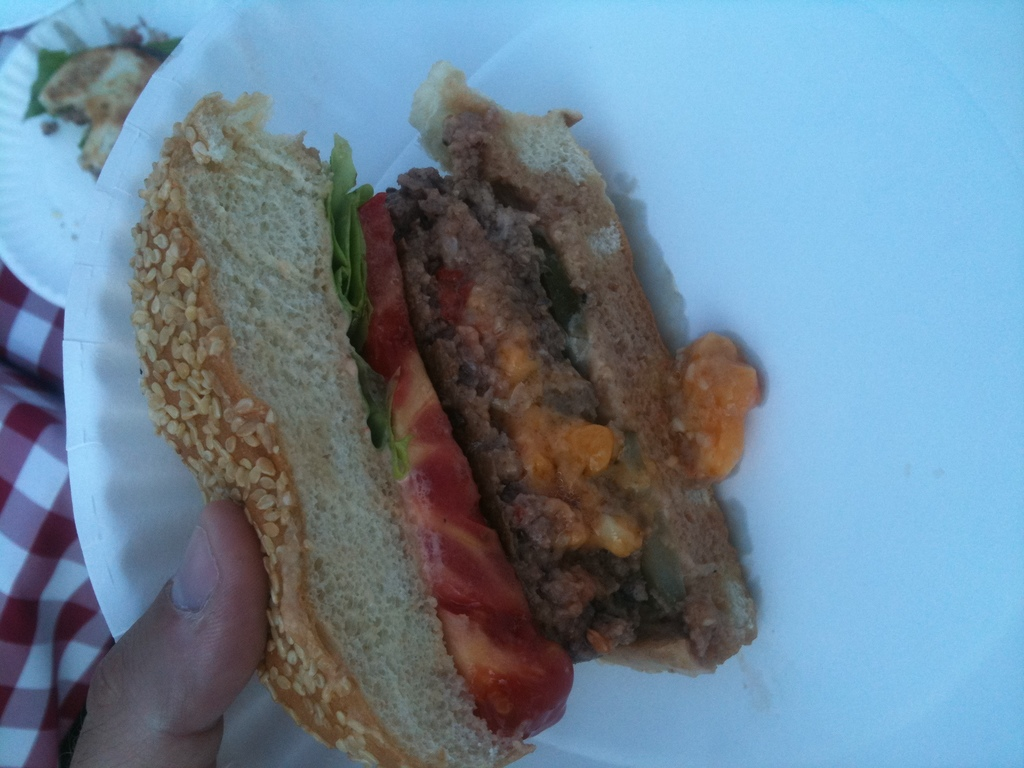hot_dog: (127, 53, 760, 767)
